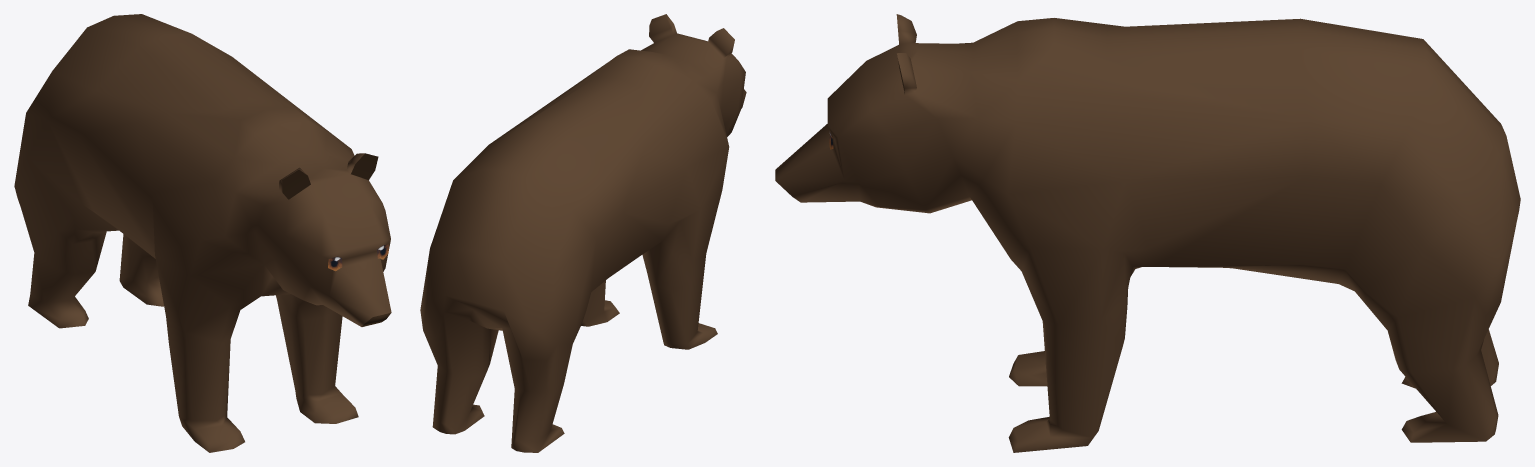
Rendered from Bear01.glb.
3 renders of one model, left to right at view 1: azimuth 30°, elevation 25°; view 2: azimuth 150°, elevation 25°; view 3: azimuth 270°, elevation 25°, orthographic. The views are drawn at different scales.
Visible parts, largest first — view 1: Bear01; view 2: Bear01; view 3: Bear01.
Boxes of the visible parts, <box> form: Bear01: <box>14,14,391,452</box>; Bear01: <box>420,14,746,452</box>; Bear01: <box>775,14,1520,452</box>.
Size of what is drawn, in the model's own units: 0.8826 by 1.44 by 2.55.
1 material, 1 textured.
